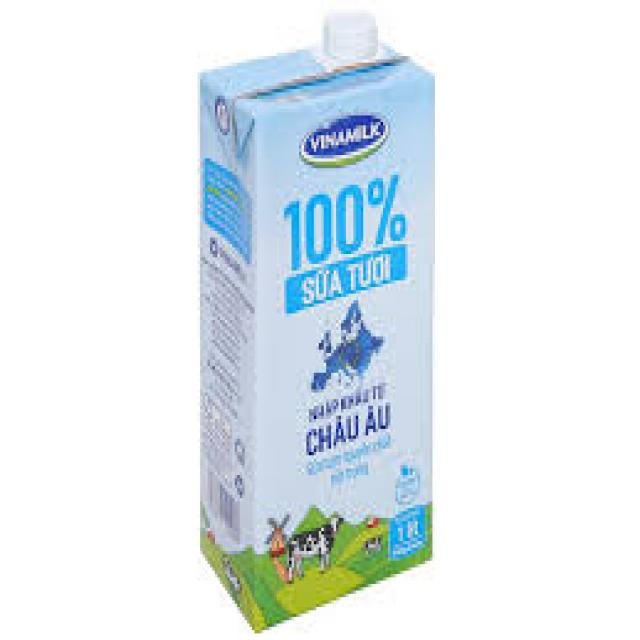non_white_jug: (190, 15, 442, 625)
